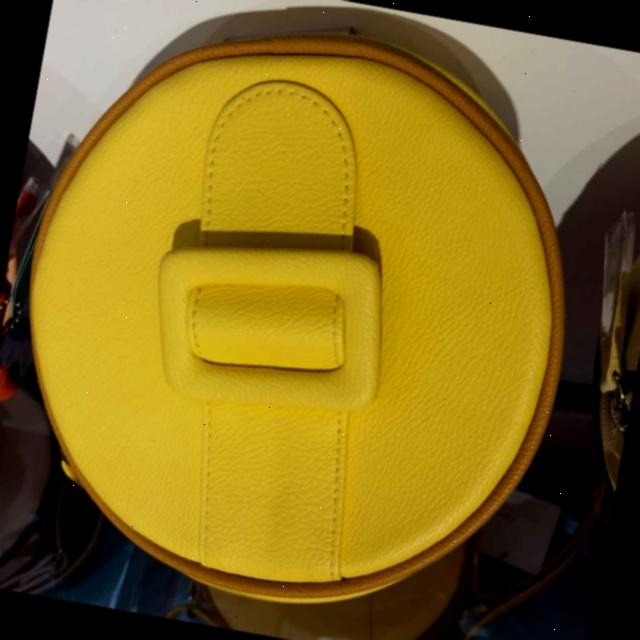Handbag: (0, 0, 611, 636)
